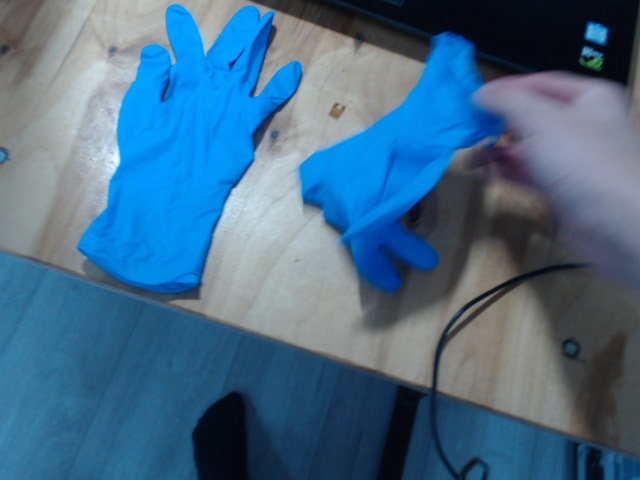medical_glove: (81, 1, 303, 293)
